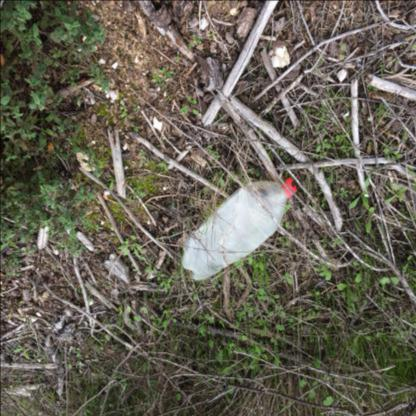Bottle: (283, 177, 296, 195)
Bottle cap: (180, 176, 296, 280)
